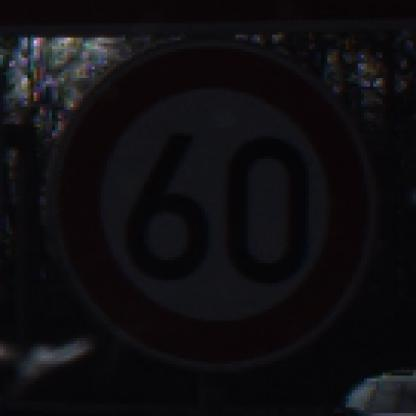Speed Limit 60: (58, 45, 376, 362)
